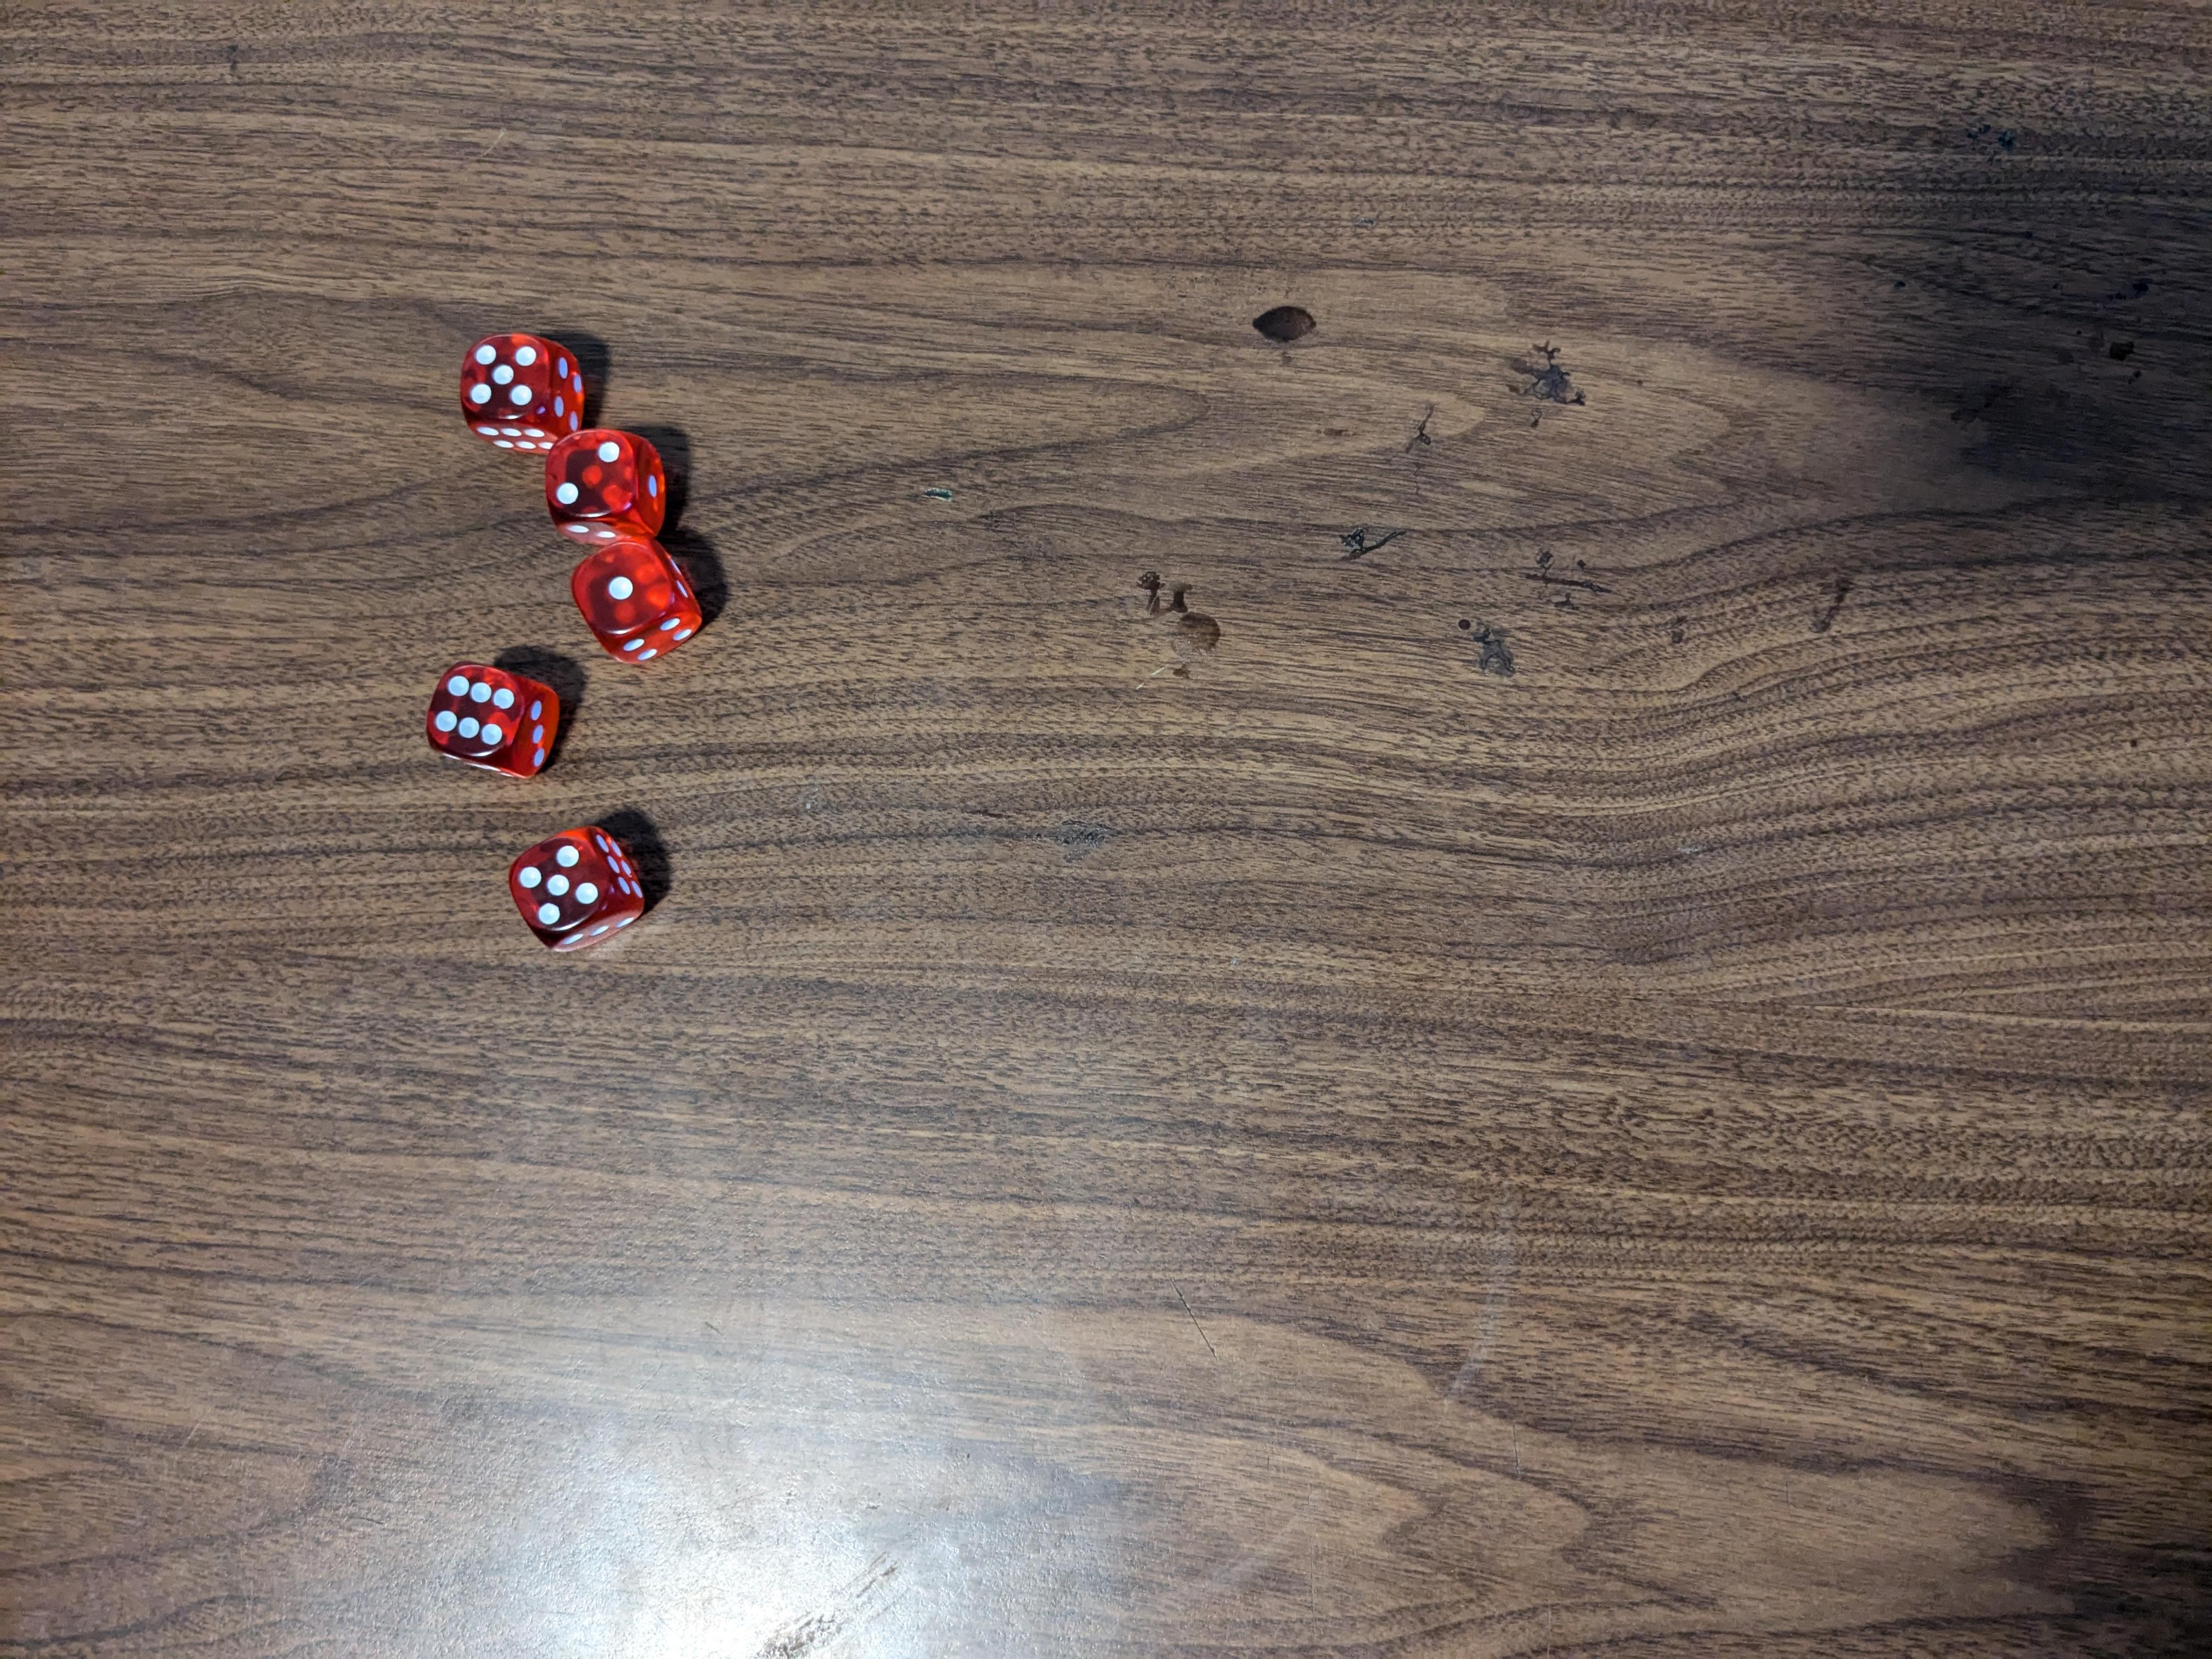five: (507, 828, 651, 955), (453, 328, 582, 453)
one: (573, 540, 704, 667)
six: (421, 659, 566, 782)
two: (552, 429, 671, 552)
